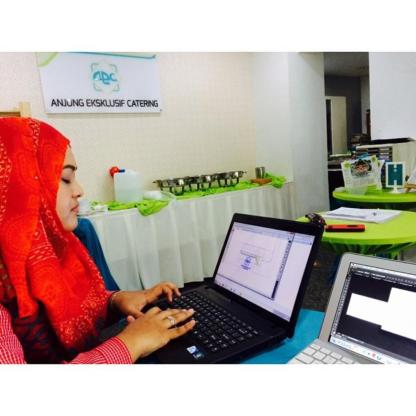board: (141, 220, 325, 362), (288, 253, 416, 367), (113, 169, 143, 204)
